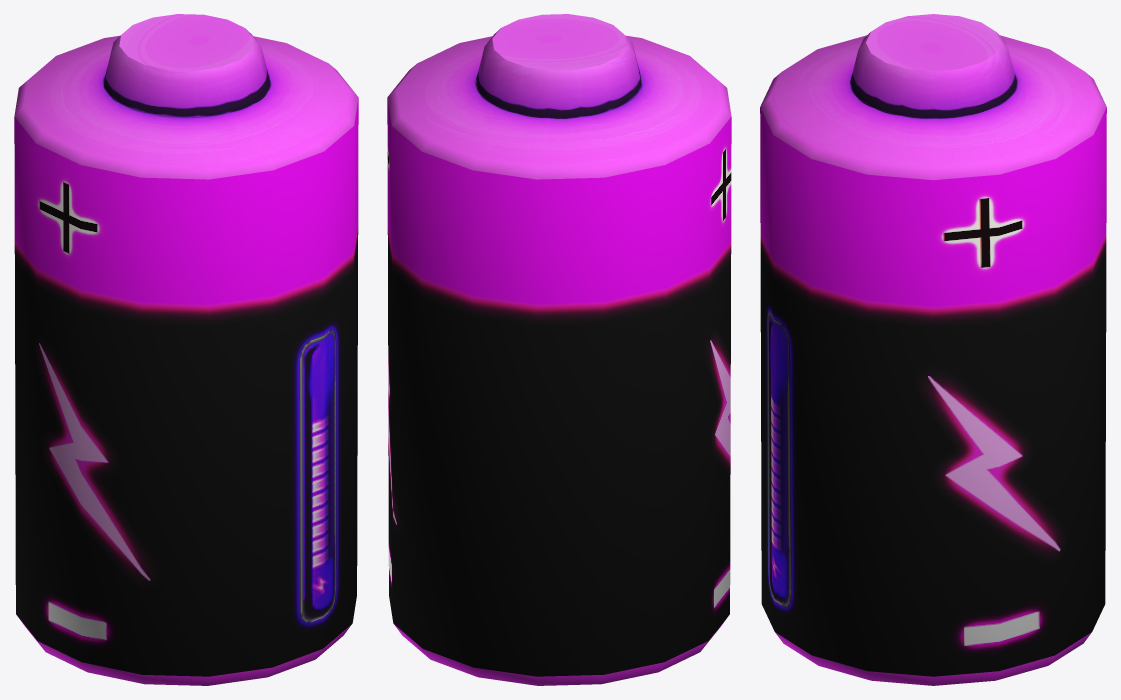
The model's file is Battery.FBX.
3 views of the same model, side by side, from view 1: azimuth 30°, elevation 25°; view 2: azimuth 150°, elevation 25°; view 3: azimuth 270°, elevation 25° (orthographic).
Parts seen in each view (by area): view 1: Cylinder014; view 2: Cylinder014; view 3: Cylinder014.
Boxes of the visible parts, x1,y1,x2,y2 form: Cylinder014: (14, 14, 358, 685); Cylinder014: (387, 14, 731, 685); Cylinder014: (760, 14, 1106, 685).
Bounding box in the file's own units: 236 × 432 × 236.
